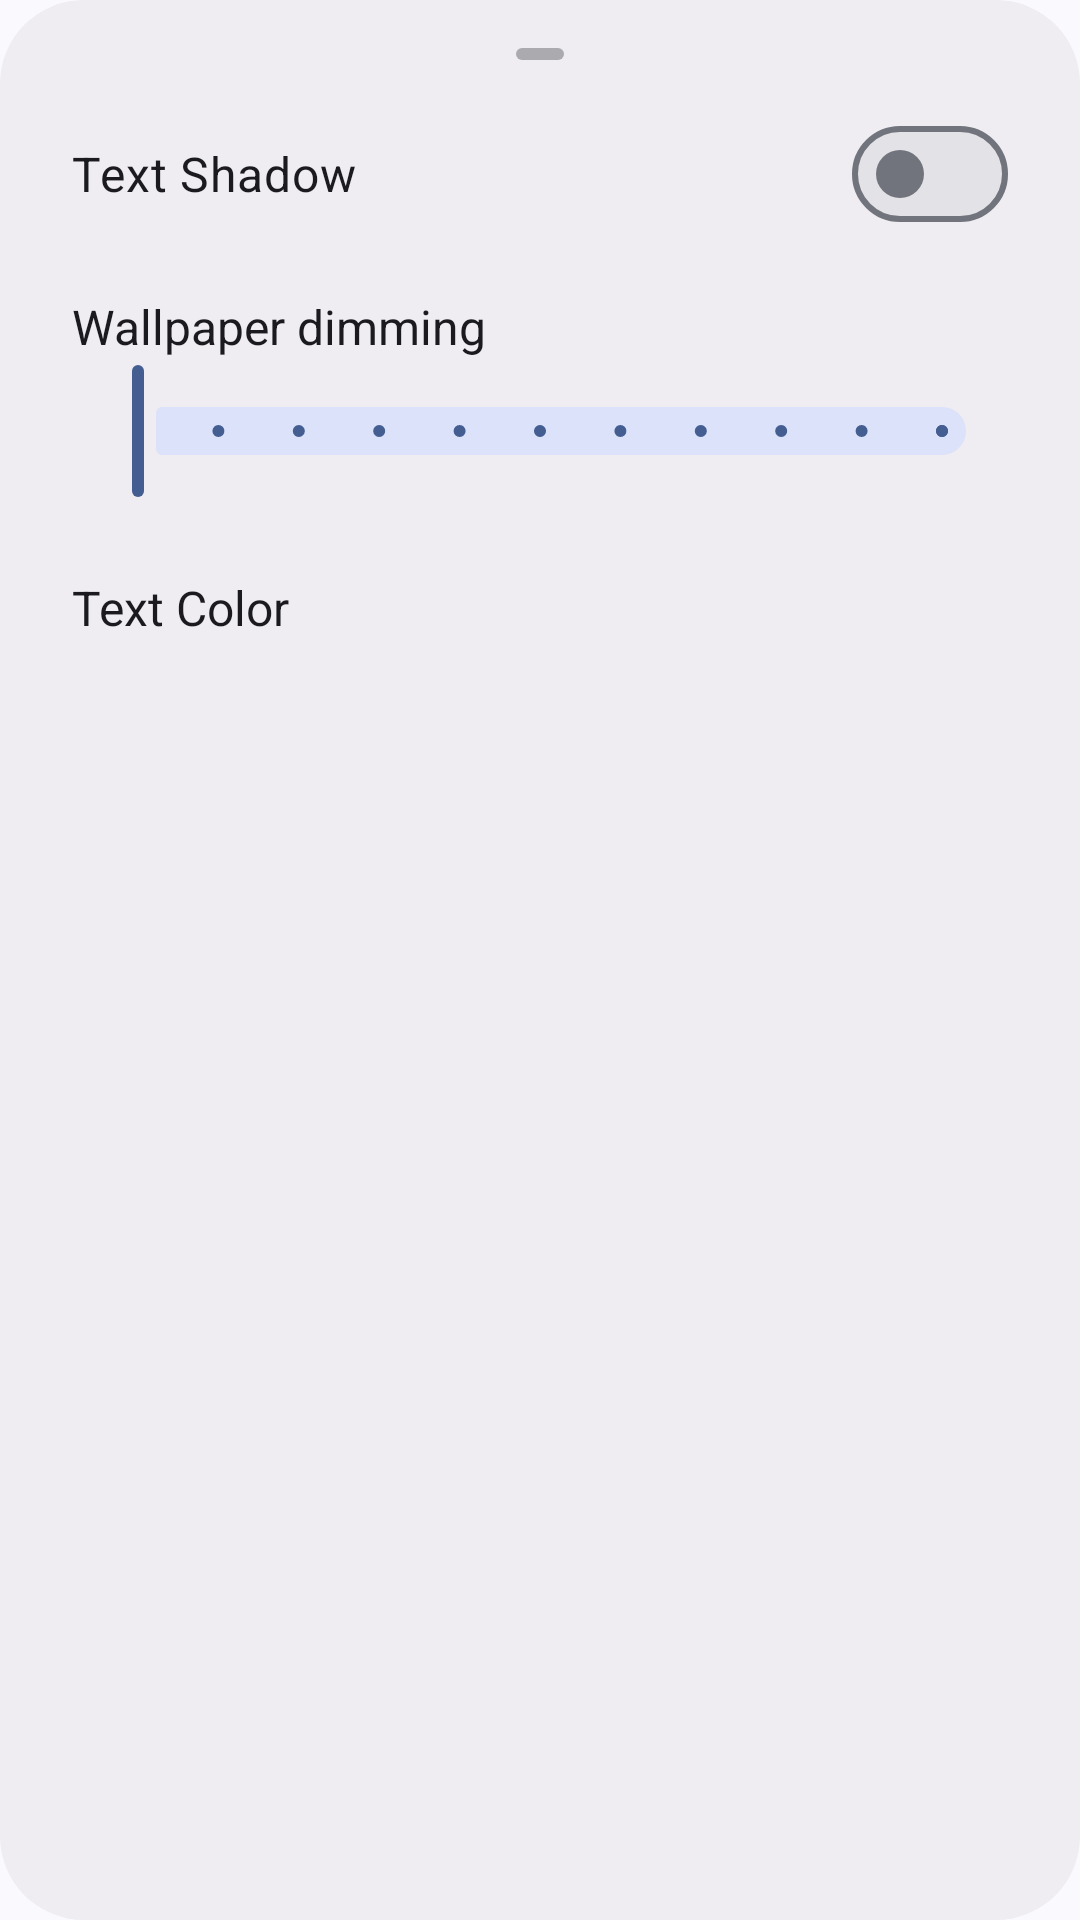

Named icons in this screenshot (1080px×1920px) and their centers, [x,y]:
drag handle: [540,54]
